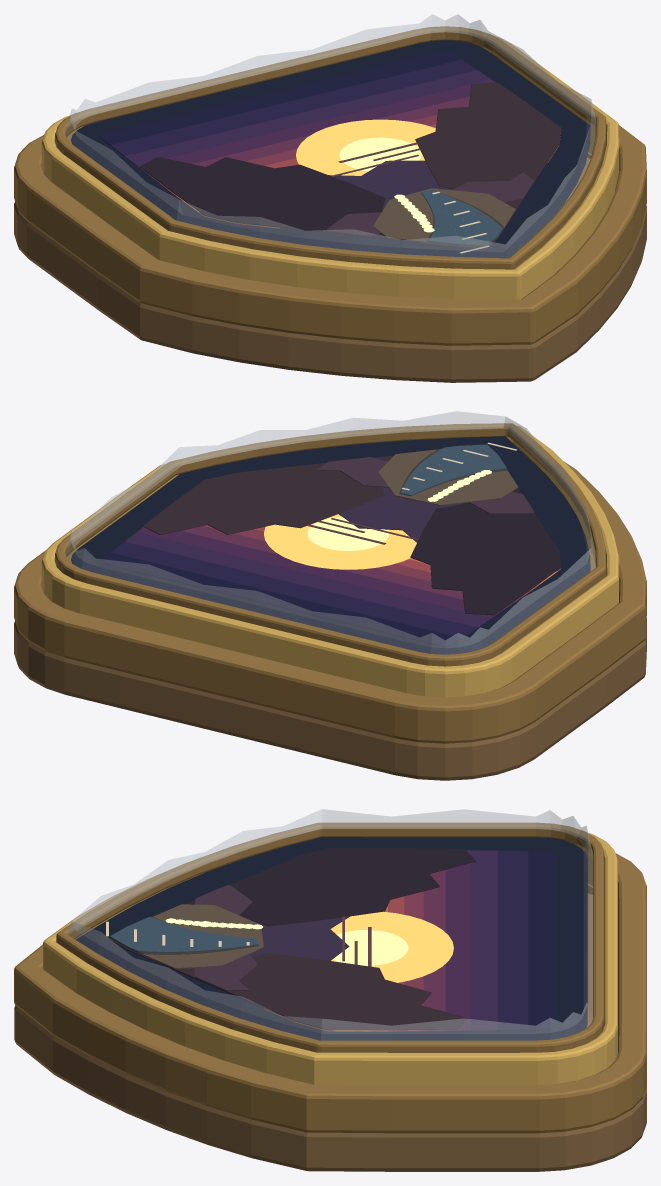
File: trail_finish.glb
The picture shows the model from 3 angles, top to bottom: view 1: azimuth 30°, elevation 25°; view 2: azimuth 150°, elevation 25°; view 3: azimuth 270°, elevation 25°; orthographic projection. The views are drawn at different scales.
Parts seen in each view (by area): view 1: TF_RimOuter, TF_BackPlate, TF_Rim, TF_FieldFace, TF_Bezel, TF_RimLip, TF_WallL, TF_WallR, TF_SkyBand2, TF_SkyBand3, TF_SkyBand1, TF_SunGlow (+8 smaller); view 2: TF_RimOuter, TF_BackPlate, TF_Rim, TF_Bezel, TF_FieldFace, TF_RimLip, TF_WallL, TF_WallR, TF_SkyBand2, TF_SkyBand1, TF_SkyBand3, TF_SunGlow (+8 smaller); view 3: TF_RimOuter, TF_BackPlate, TF_Rim, TF_FieldFace, TF_Bezel, TF_RimLip, TF_WallL, TF_WallR, TF_SkyBand2, TF_SkyBand3, TF_SkyBand1, TF_SunGlow (+8 smaller).
Part boxes in pixels (bbox=[...]): TF_RimOuter: bbox=[14, 125, 646, 345]; TF_BackPlate: bbox=[14, 157, 646, 382]; TF_Rim: bbox=[41, 35, 619, 299]; TF_FieldFace: bbox=[71, 40, 590, 258]; TF_Bezel: bbox=[66, 14, 595, 257]; TF_RimLip: bbox=[55, 26, 606, 269]; TF_WallL: bbox=[139, 156, 419, 242]; TF_WallR: bbox=[415, 82, 561, 218]; TF_SkyBand2: bbox=[110, 59, 476, 156]; TF_SkyBand3: bbox=[124, 70, 490, 165]; TF_SkyBand1: bbox=[101, 52, 461, 145]; TF_SunGlow: bbox=[296, 119, 435, 175]; TF_RimOuter: bbox=[14, 461, 646, 743]; TF_BackPlate: bbox=[14, 552, 646, 780]; TF_Rim: bbox=[41, 425, 619, 697]; TF_Bezel: bbox=[66, 411, 595, 654]; TF_FieldFace: bbox=[71, 436, 590, 654]; TF_RimLip: bbox=[55, 423, 606, 666]; TF_WallL: bbox=[410, 488, 561, 615]; TF_WallR: bbox=[143, 455, 393, 534]; TF_SkyBand2: bbox=[111, 541, 477, 638]; TF_SkyBand1: bbox=[101, 552, 461, 646]; TF_SkyBand3: bbox=[125, 532, 491, 627]; TF_SunGlow: bbox=[264, 514, 416, 569]; TF_RimOuter: bbox=[14, 853, 646, 1133]; TF_BackPlate: bbox=[14, 893, 646, 1171]; TF_Rim: bbox=[43, 832, 617, 1084]; TF_FieldFace: bbox=[75, 837, 587, 1040]; TF_Bezel: bbox=[67, 809, 592, 1040]; TF_RimLip: bbox=[56, 822, 604, 1052]; TF_WallL: bbox=[185, 848, 475, 926]; TF_WallR: bbox=[160, 952, 467, 1030]; TF_SkyBand2: bbox=[498, 850, 528, 1030]; TF_SkyBand3: bbox=[470, 850, 497, 1030]; TF_SkyBand1: bbox=[528, 851, 555, 1030]; TF_SunGlow: bbox=[330, 911, 453, 982].
Bounding box in the file's own units: 0.0381 × 0.009 × 0.0394.
